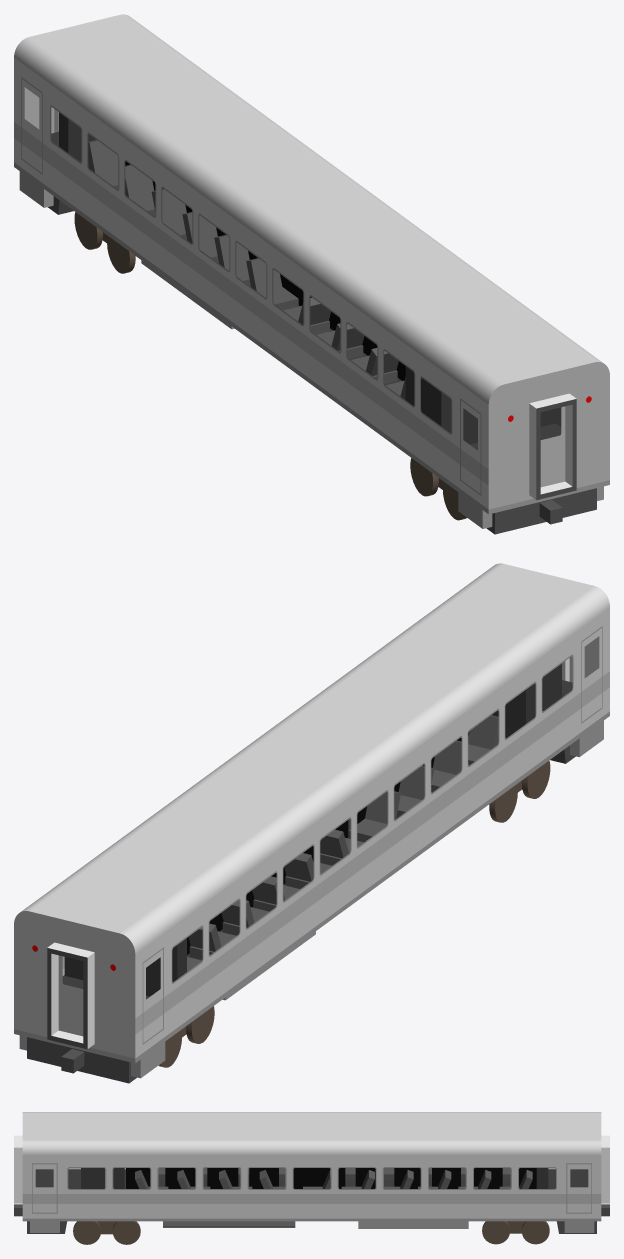
File: coach-car.glb
3 views of the same model, one above another, from view 1: azimuth 30°, elevation 25°; view 2: azimuth 150°, elevation 25°; view 3: azimuth 270°, elevation 25° (orthographic). The views are drawn at different scales.
Parts seen in each view (by area): view 1: group_0, Box (×3), Box_5, Box_2, group_3_1; view 2: group_0, Box_5, Box (×2), Box_2, group_3_1, group_5_1; view 3: group_0, Box (×13), Box_4, group_2_1, group_4_1, group_2, group_4, Box_3.
Part boxes in pixels (x1,y1,x2,y2): group_0: [14, 14, 609, 534]; Box (×3): [88, 140, 282, 292]; Box_5: [405, 366, 477, 444]; Box_2: [59, 112, 96, 168]; group_3_1: [410, 458, 438, 496]; group_0: [14, 563, 609, 1083]; Box_5: [492, 663, 561, 738]; Box (×2): [433, 715, 498, 774]; Box_2: [146, 938, 186, 996]; group_3_1: [489, 784, 517, 822]; group_5_1: [521, 760, 550, 798]; group_0: [14, 1112, 609, 1233]; Box (×13): [35, 1168, 588, 1188]; Box_4: [81, 1168, 124, 1188]; group_2_1: [112, 1221, 140, 1244]; group_4_1: [73, 1221, 100, 1244]; group_2: [521, 1221, 549, 1244]; group_4: [482, 1221, 509, 1244]; Box_3: [536, 1168, 548, 1188].
Size of the model in its own units: 3.02 by 4.13 by 21.08.
